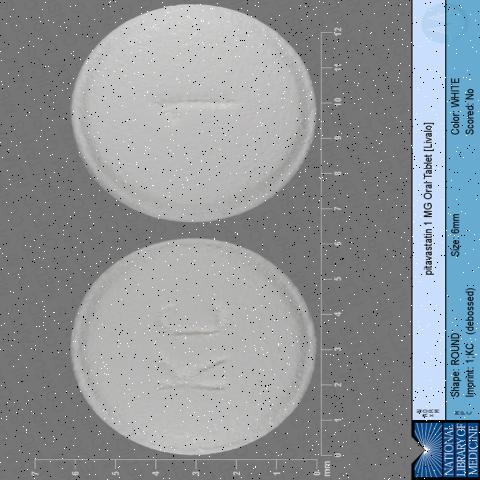Pill: (68, 217, 332, 470), (57, 7, 339, 233)
